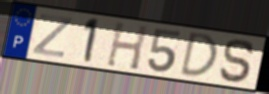1: (81, 16, 102, 65)
5: (146, 28, 183, 74)
D: (178, 30, 220, 78)
H: (104, 20, 150, 73)
S: (218, 37, 257, 85)
Z: (30, 12, 75, 60)
